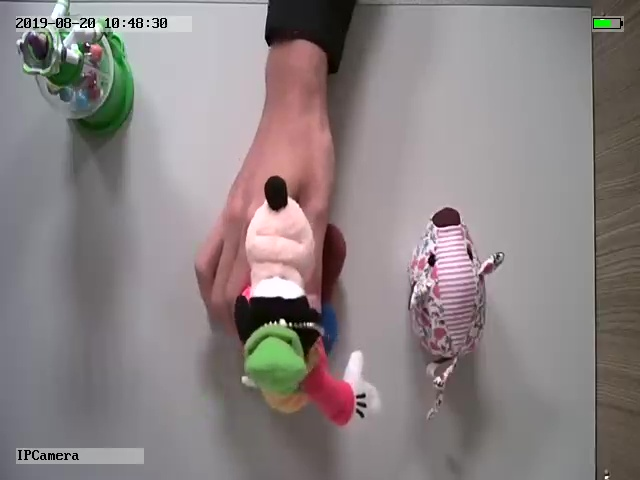buzz: (15, 3, 136, 127)
goofy: (235, 175, 384, 435)
pig: (401, 204, 505, 422)
